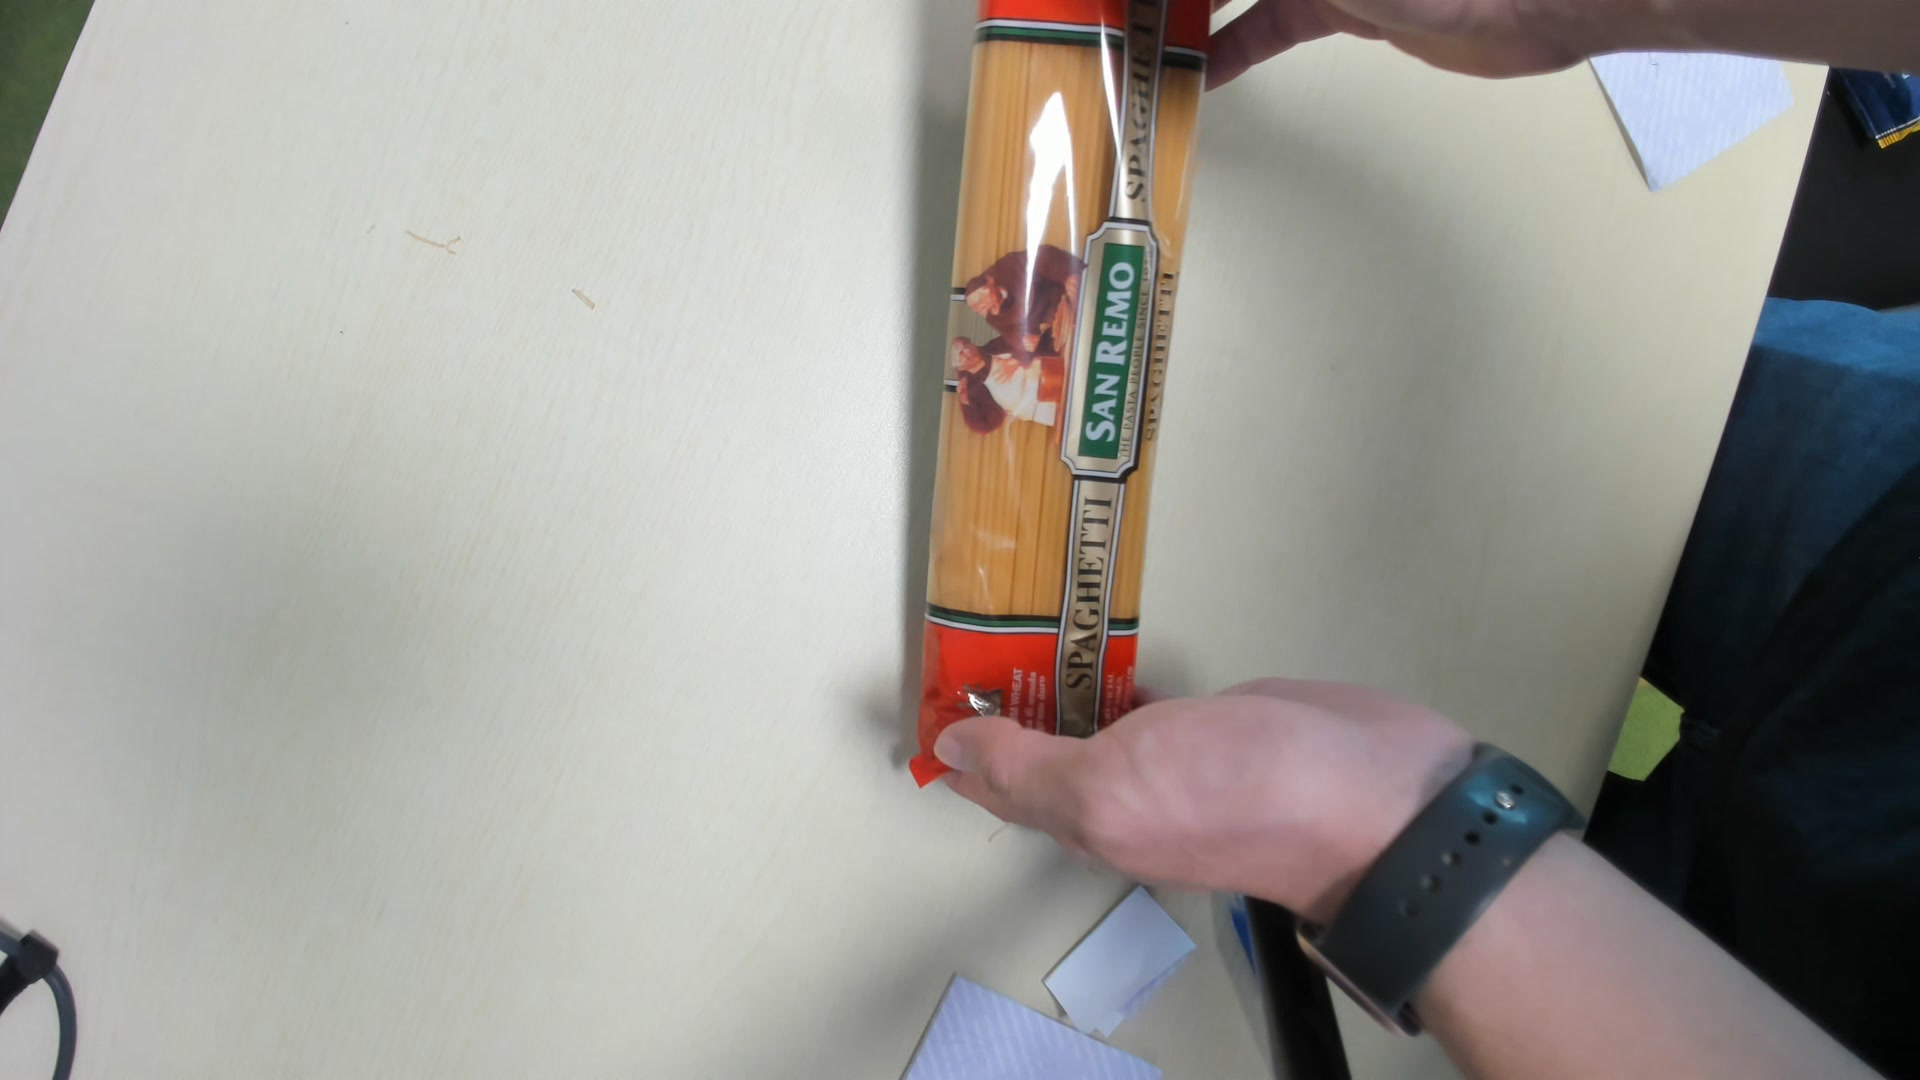Pasta_500-599g_Halal_NonHealthy: (914, 7, 1203, 802)
